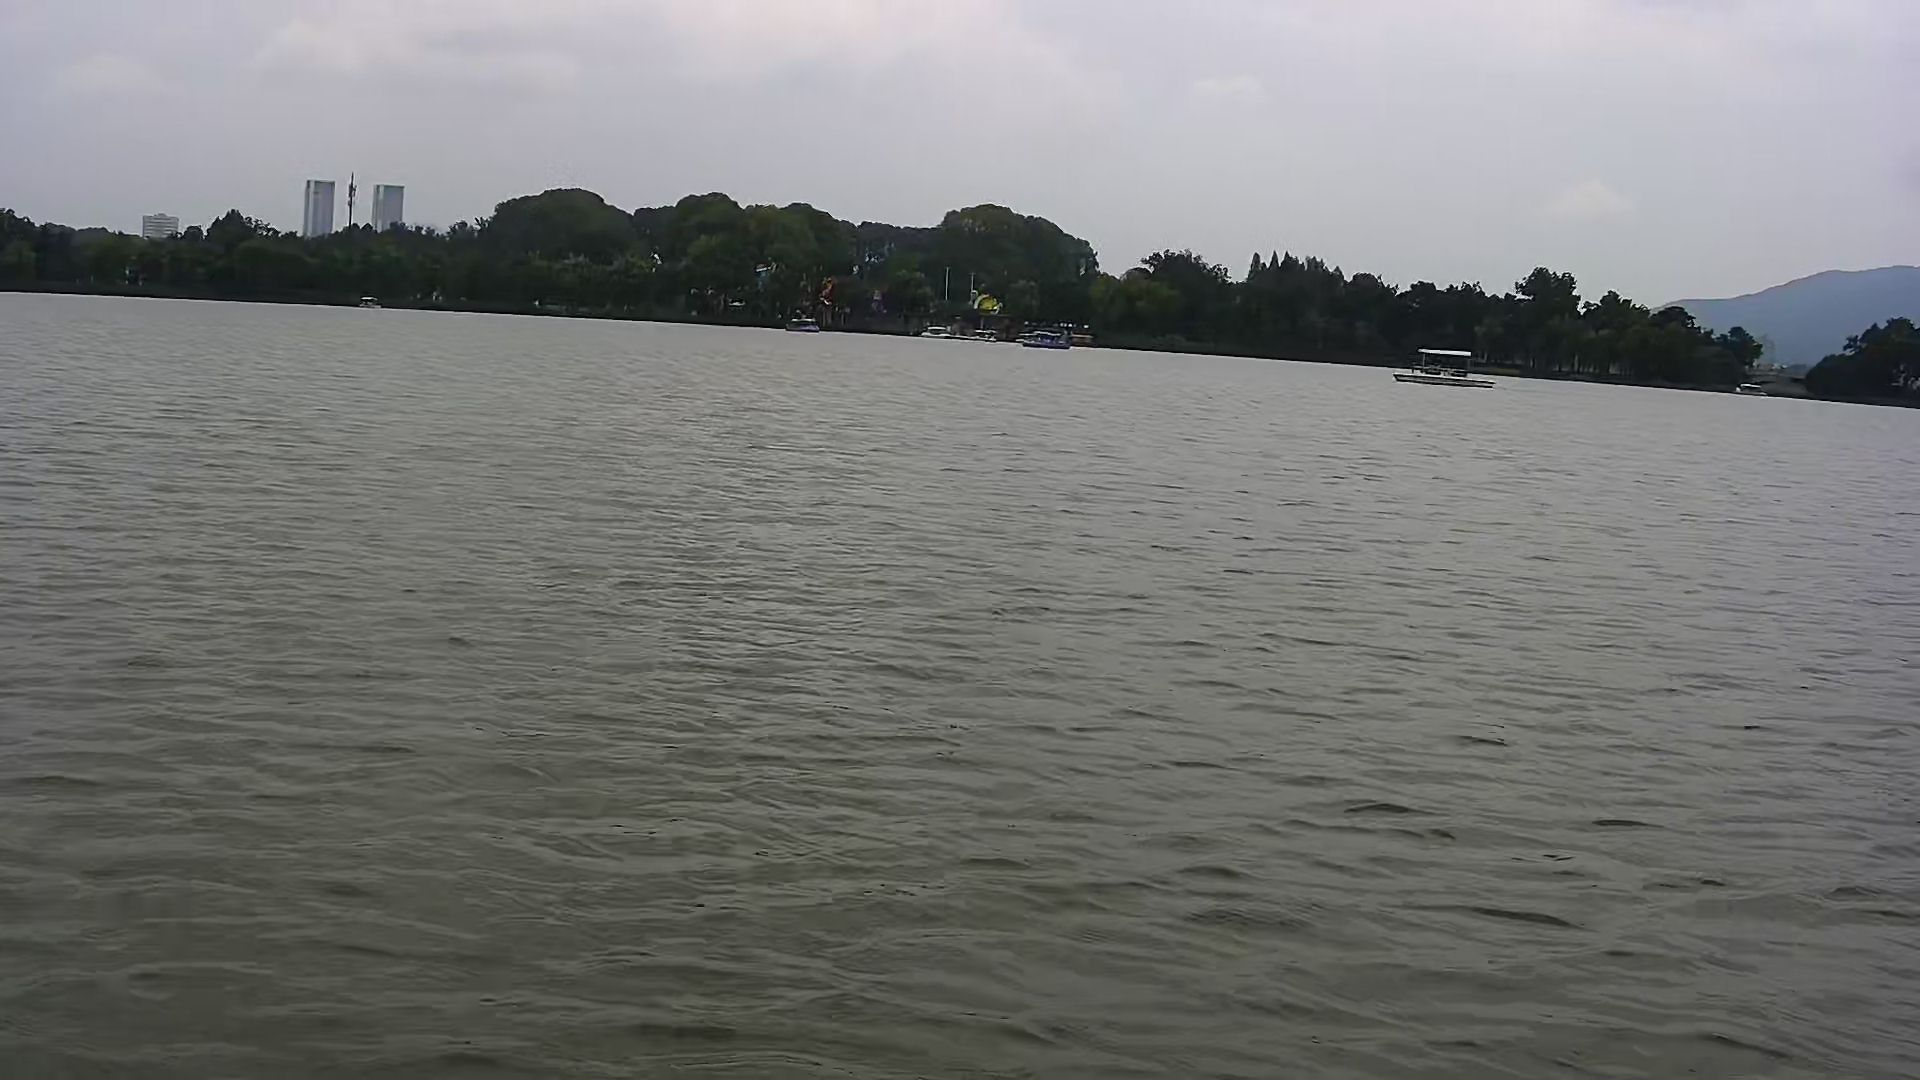boat: (1393, 352, 1494, 392), (1015, 322, 1072, 349)
